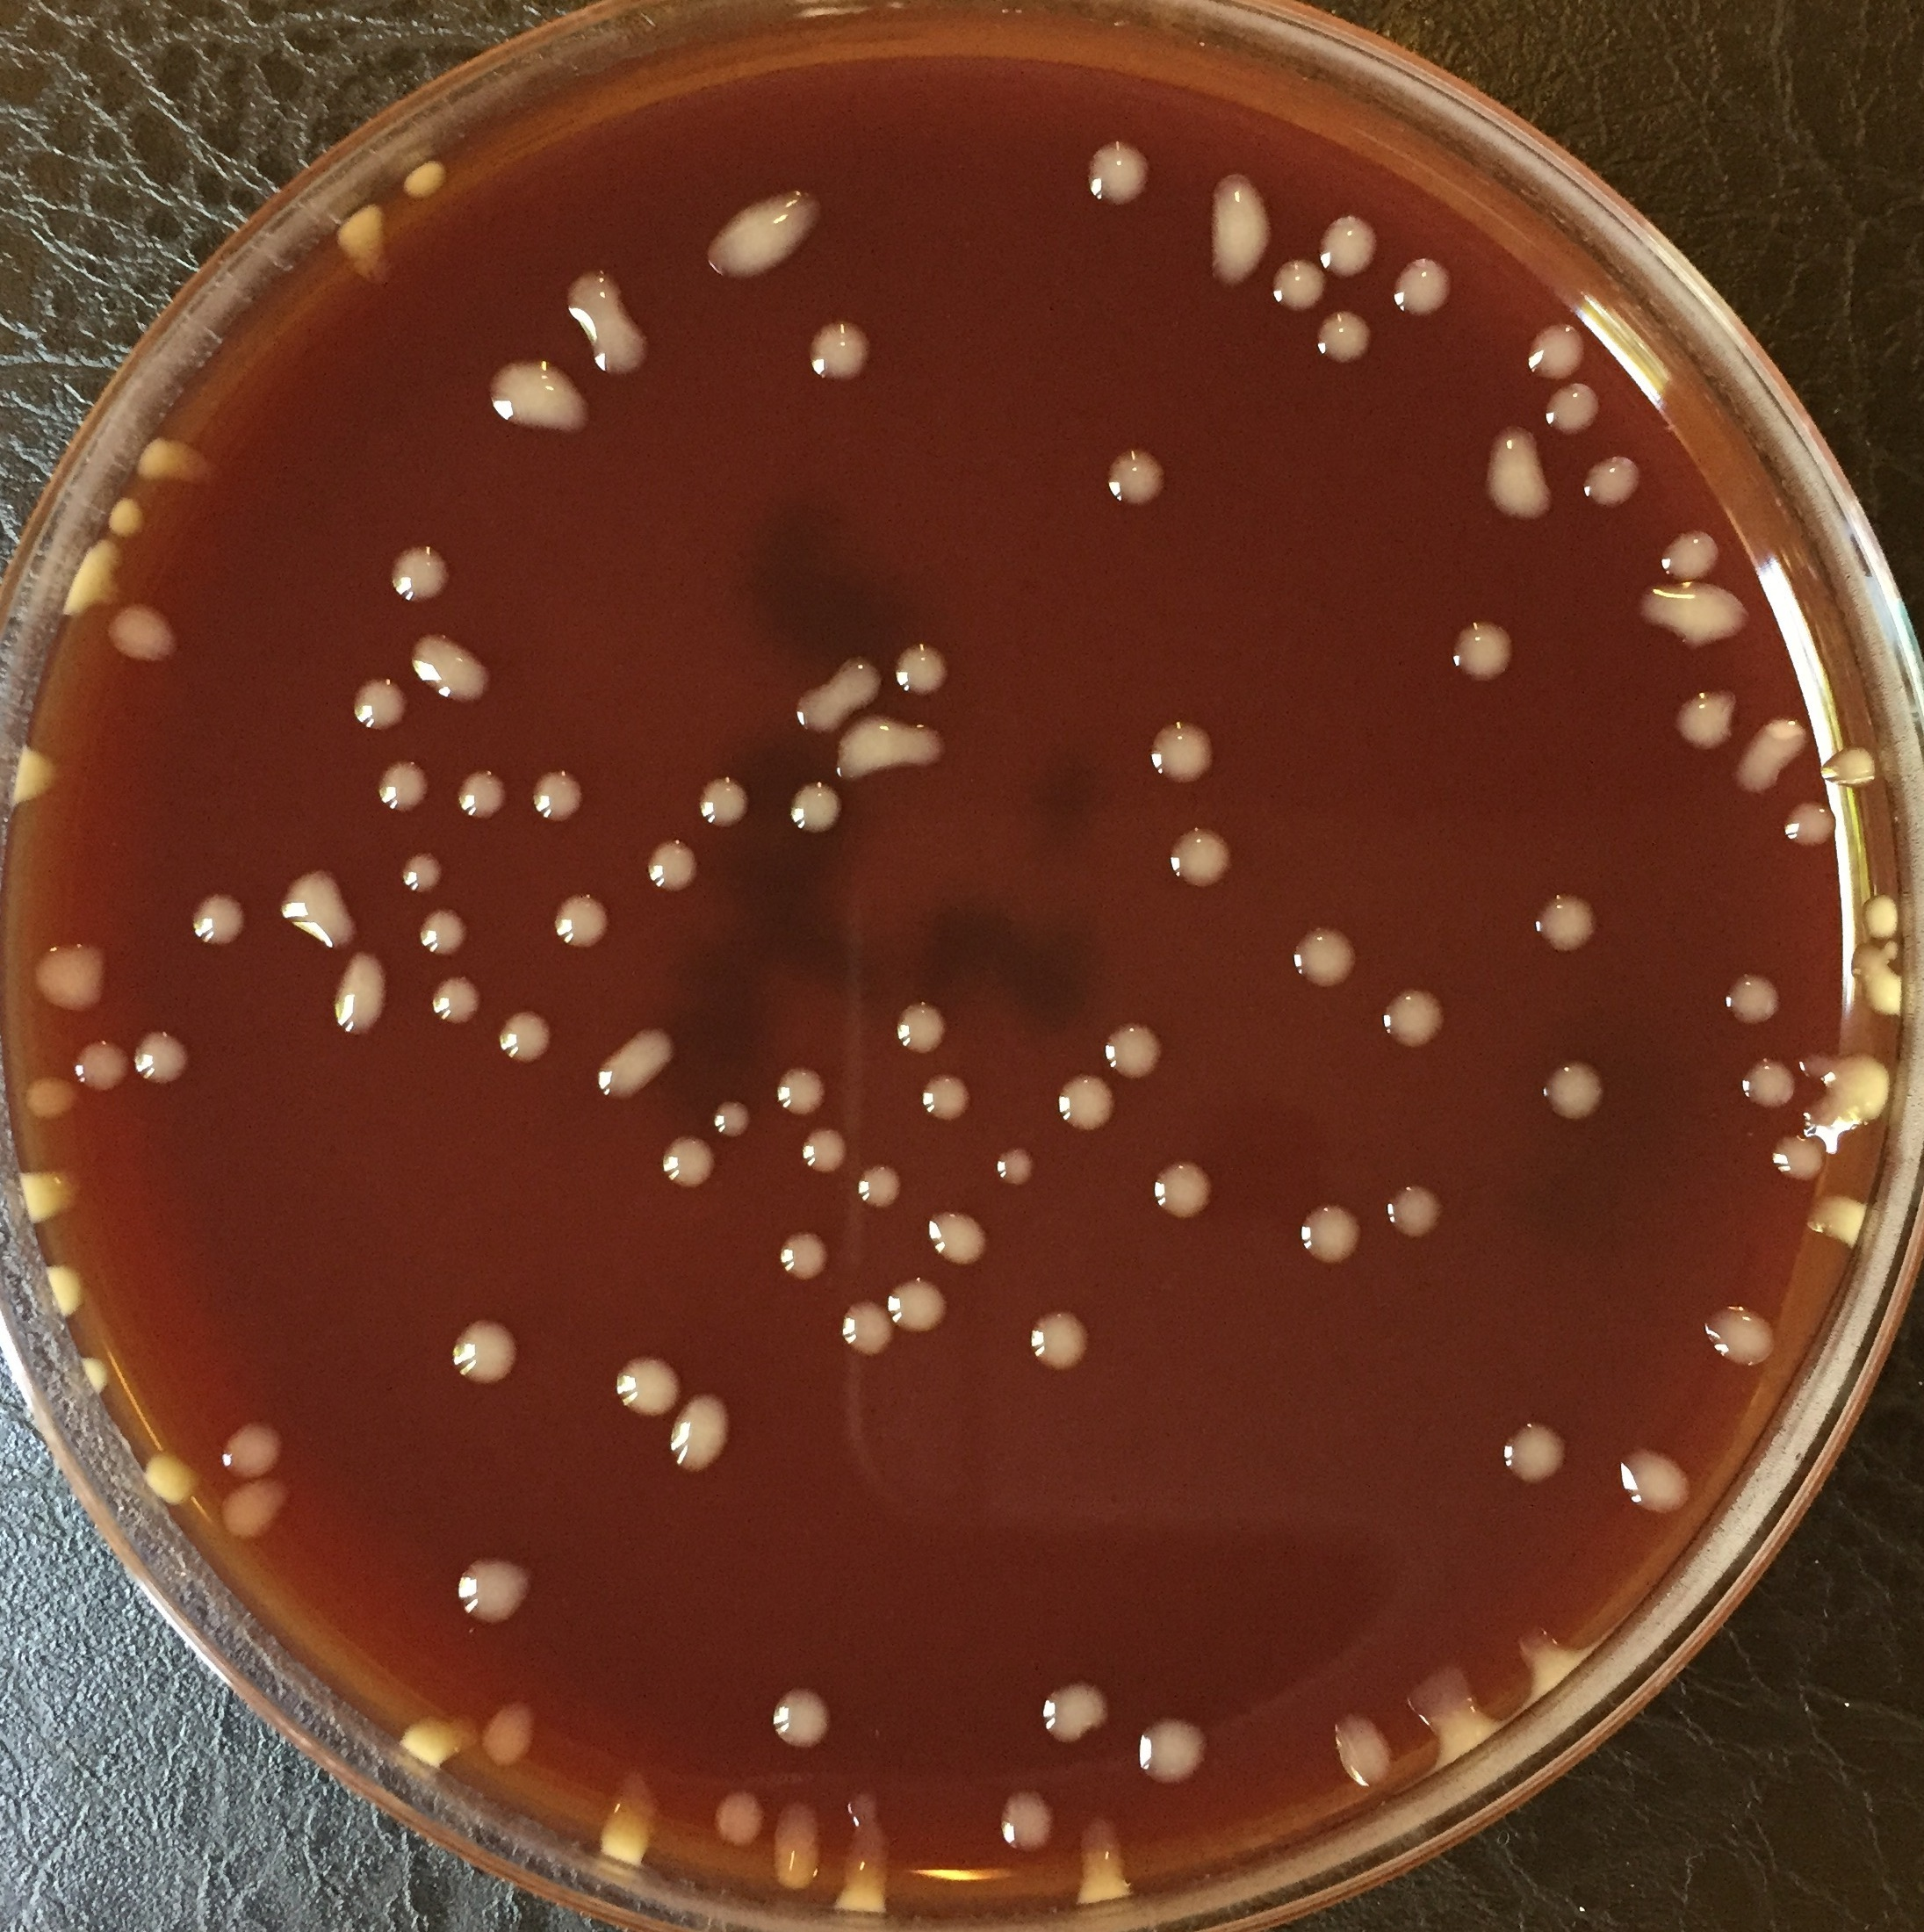sp19: (703, 187, 833, 282), (485, 347, 594, 442), (1621, 573, 1744, 656), (1203, 162, 1279, 289), (1404, 1662, 1508, 1752), (585, 1765, 673, 1870), (835, 1787, 907, 1916), (1801, 1042, 1894, 1141), (1475, 425, 1561, 522), (844, 709, 946, 788), (277, 867, 368, 954), (594, 1019, 682, 1107), (1614, 1440, 1707, 1523), (400, 631, 497, 709), (1512, 1615, 1591, 1705), (1325, 1703, 1406, 1789), (448, 1553, 541, 1627), (32, 934, 113, 1017), (662, 1387, 735, 1479), (474, 1690, 550, 1777), (1036, 1673, 1121, 1749), (328, 948, 396, 1040), (449, 1313, 529, 1393), (389, 1696, 474, 1768), (604, 1352, 698, 1417), (1739, 716, 1815, 795), (1131, 1712, 1217, 1780), (1496, 1417, 1575, 1491), (208, 1472, 298, 1537), (1702, 1296, 1783, 1368), (340, 203, 409, 287), (1082, 136, 1154, 215), (1073, 1809, 1131, 1906), (1024, 1299, 1099, 1373), (1288, 917, 1362, 992), (1519, 316, 1596, 388), (1845, 940, 1919, 1014), (580, 317, 659, 386), (106, 608, 190, 672), (211, 1416, 289, 1484), (382, 538, 460, 606), (766, 1798, 828, 1884), (12, 1163, 93, 1229), (1801, 1192, 1882, 1255), (1669, 684, 1741, 754), (63, 538, 134, 610), (1099, 442, 1175, 509), (26, 1250, 88, 1331), (988, 1787, 1061, 1856), (1533, 888, 1605, 957), (802, 317, 877, 383), (1161, 827, 1233, 894), (1387, 257, 1459, 324), (1311, 305, 1387, 368), (770, 1678, 837, 1749), (640, 830, 710, 897), (185, 890, 252, 961), (1147, 717, 1219, 783), (918, 1207, 994, 1269), (1147, 1160, 1223, 1222), (1299, 1200, 1369, 1266), (1378, 978, 1443, 1049), (495, 1001, 560, 1072), (1050, 1074, 1122, 1137), (872, 1274, 948, 1334), (1540, 1052, 1609, 1118), (1098, 1017, 1168, 1081), (1320, 208, 1381, 280), (125, 1024, 197, 1086), (550, 890, 618, 954), (770, 1058, 839, 1121), (1454, 615, 1515, 686), (560, 259, 627, 323), (1771, 1130, 1839, 1192), (7, 735, 65, 807), (11, 1068, 86, 1123), (707, 1780, 770, 1846), (888, 640, 953, 703), (347, 673, 414, 733), (63, 1037, 139, 1089), (1378, 1183, 1450, 1237), (136, 435, 210, 488), (788, 774, 849, 837), (773, 1225, 839, 1285), (1536, 379, 1602, 439), (134, 1447, 206, 1500), (1269, 254, 1330, 316), (426, 971, 488, 1033), (1579, 450, 1644, 508), (1780, 795, 1846, 851), (374, 756, 435, 816), (884, 999, 950, 1056), (1654, 525, 1721, 580), (412, 908, 481, 961), (1725, 966, 1787, 1024), (1818, 742, 1885, 795), (455, 762, 511, 823), (662, 1130, 719, 1192), (800, 1123, 860, 1179), (691, 772, 752, 827), (837, 1294, 890, 1356), (99, 487, 155, 543), (391, 846, 451, 899), (1739, 1056, 1794, 1111), (529, 767, 585, 820), (830, 652, 881, 710), (987, 1144, 1047, 1193), (855, 1160, 909, 1213), (918, 1070, 976, 1119), (393, 159, 456, 203), (795, 675, 844, 730), (707, 1098, 761, 1139), (1861, 887, 1896, 945), (72, 1350, 113, 1400)
